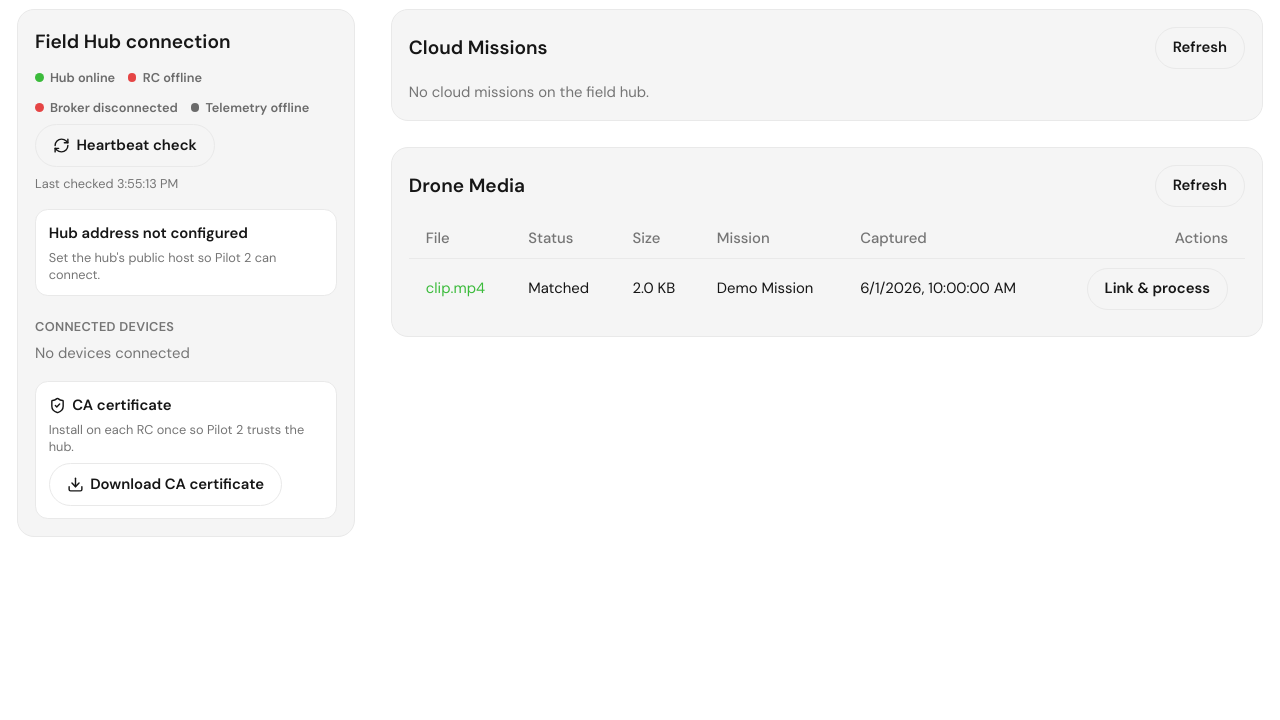
Test: FieldOpsPage › surfaces an open error when the presign request fails
The width and height of the screenshot is (1280, 720).
Click the button with test id "field-ops-media-open-f1": (455, 289) left=426, top=278, right=485, bottom=299
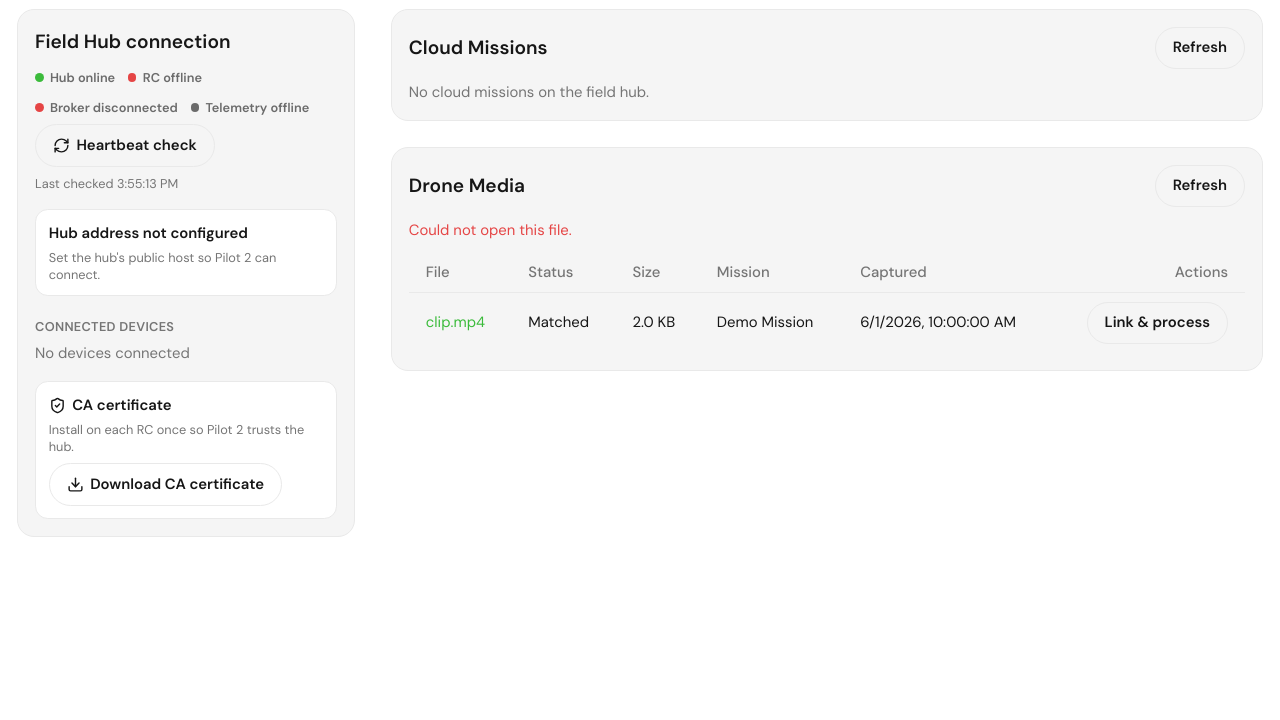
Result: the text "Could not open this file." is shown at left=409, top=220, right=572, bottom=240
